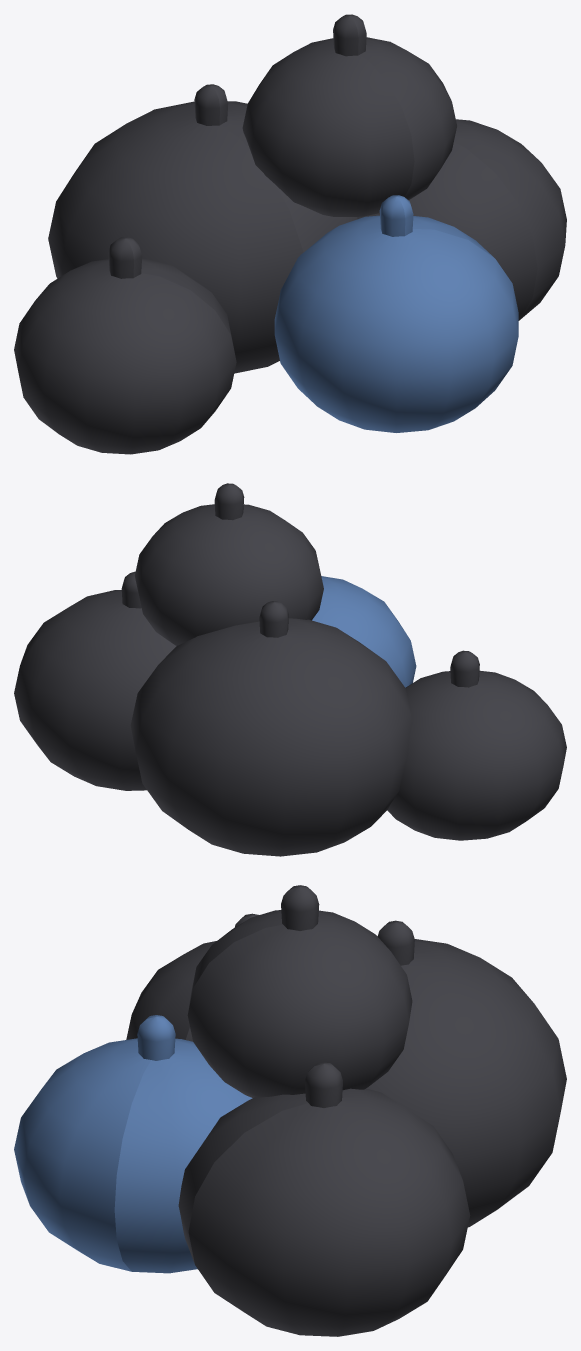
File: prop_trash_bags.glb
3 views of the same model, one above another, from view 1: azimuth 30°, elevation 25°; view 2: azimuth 150°, elevation 25°; view 3: azimuth 270°, elevation 25° (orthographic). The views are drawn at different scales.
Visible parts, largest first — view 1: prop_trash_bags; view 2: prop_trash_bags; view 3: prop_trash_bags.
Boxes of the visible parts, left/top/right/bottom form: prop_trash_bags: left=14, top=14, right=566, bottom=454; prop_trash_bags: left=14, top=483, right=566, bottom=856; prop_trash_bags: left=14, top=885, right=566, bottom=1336.
Size of the model in its own units: 1.47 by 0.8865 by 1.16.
